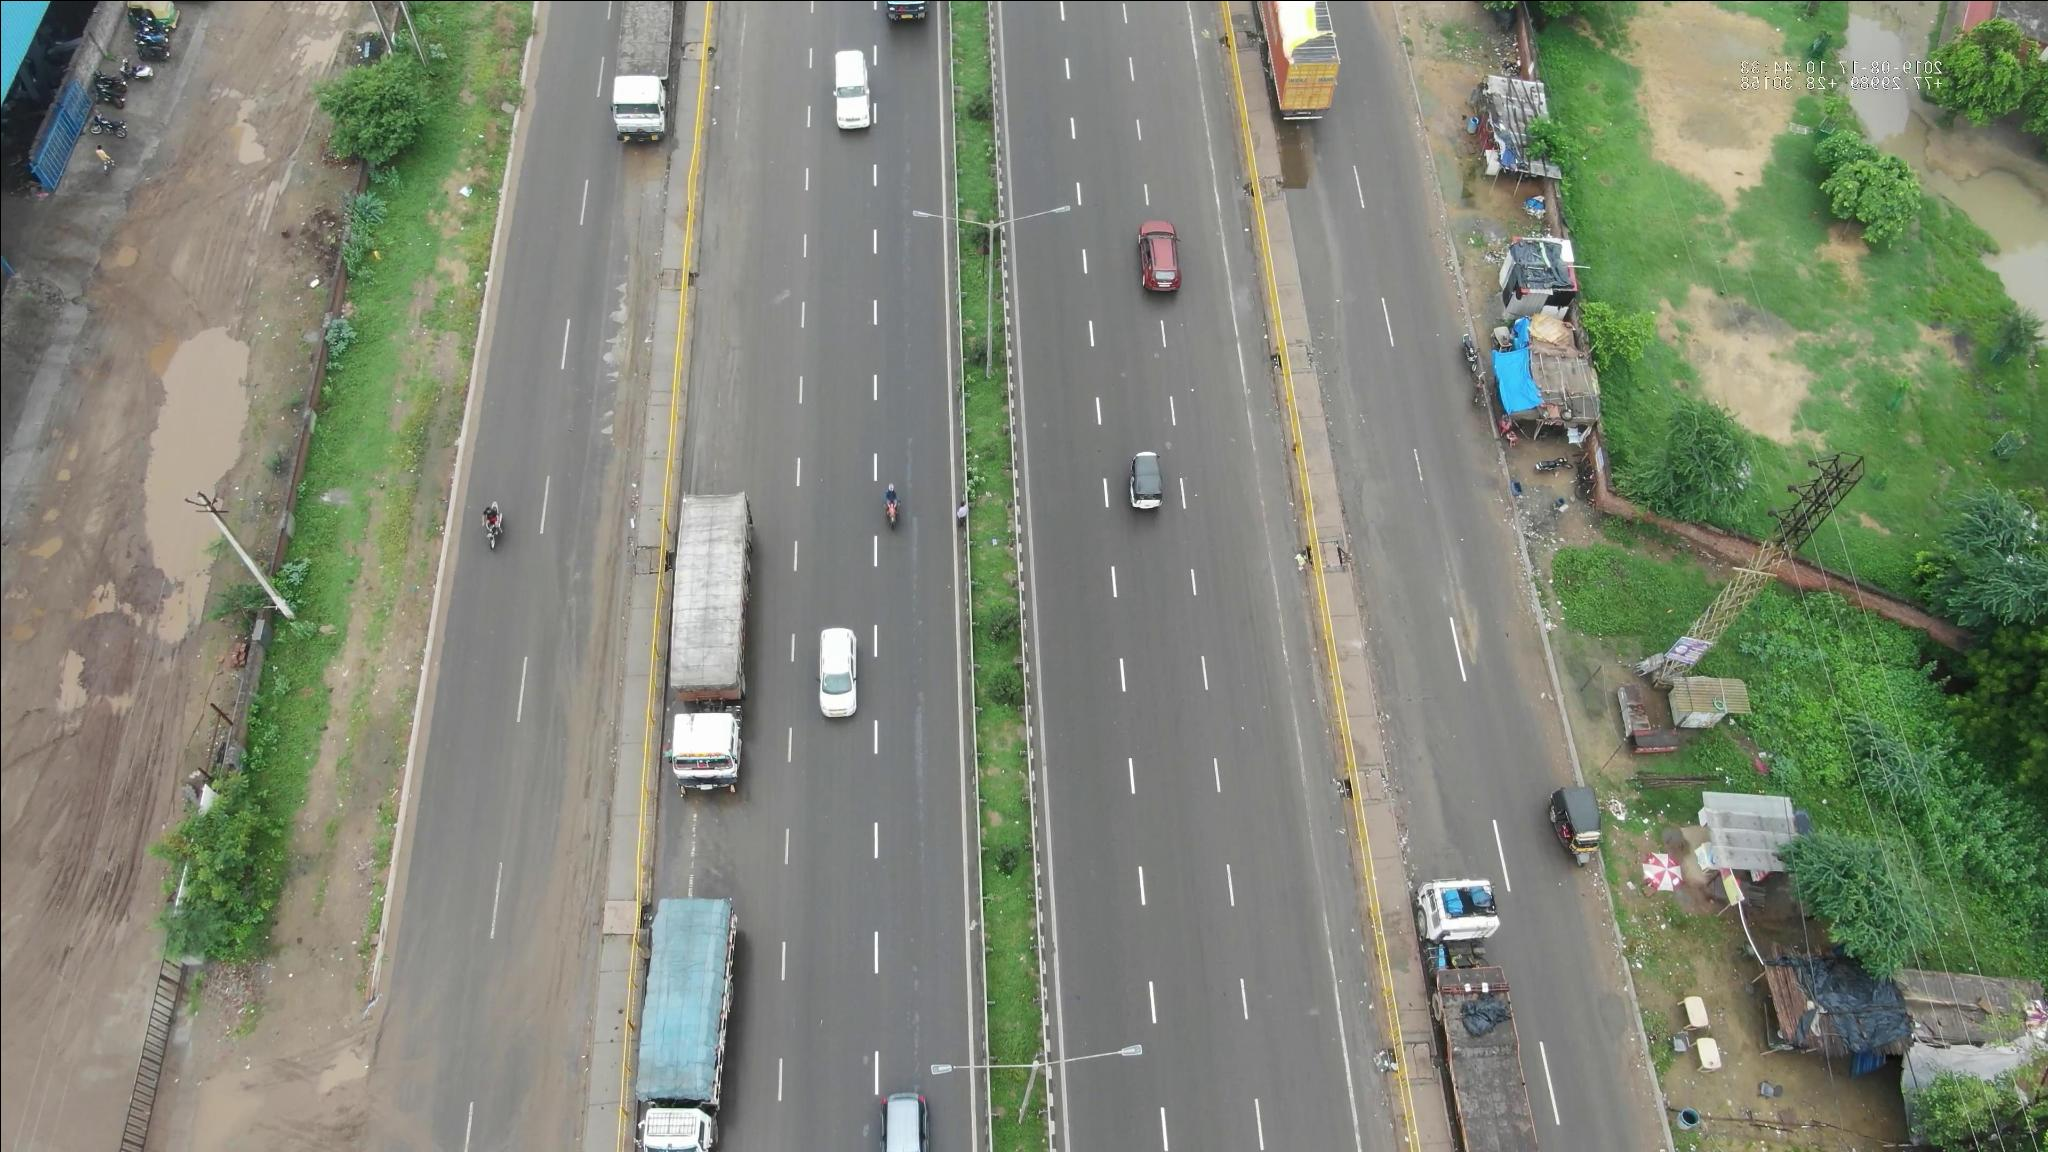Muddy_road: (549, 700, 626, 935)
Waterlogging: (138, 332, 263, 620)
